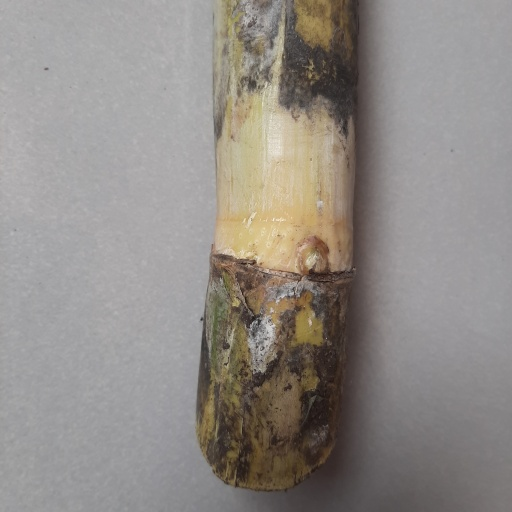Bud: (294, 236, 332, 277)
